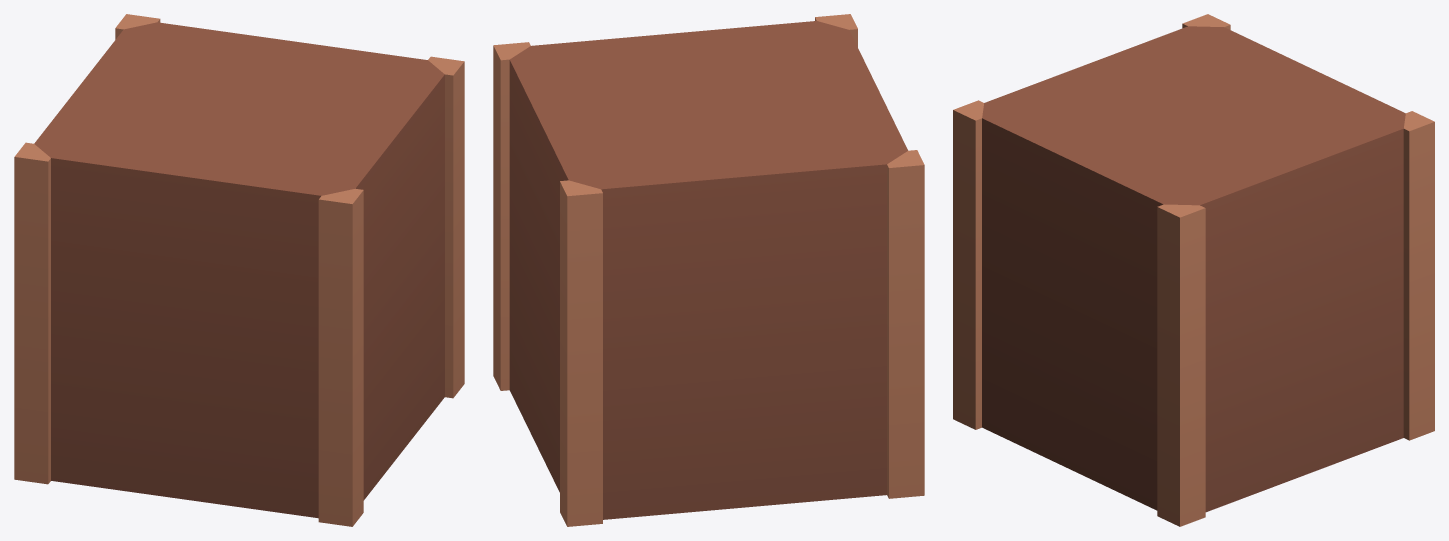
File: wall-wood-block.001_lev1.glb
3 views of the same model, side by side, from view 1: azimuth 30°, elevation 25°; view 2: azimuth 150°, elevation 25°; view 3: azimuth 270°, elevation 25° (orthographic). The views are drawn at different scales.
Parts seen in each view (by area): view 1: wall-wood-block.001_lev1; view 2: wall-wood-block.001_lev1; view 3: wall-wood-block.001_lev1.
Boxes of the visible parts, x1=… form: wall-wood-block.001_lev1: x1=14, y1=14, x2=464, y2=526; wall-wood-block.001_lev1: x1=493, y1=14, x2=924, y2=526; wall-wood-block.001_lev1: x1=953, y1=14, x2=1434, y2=526.
Size of the model in its own units: 6.08 by 4.3 by 6.08.
1 material, 1 textured.
